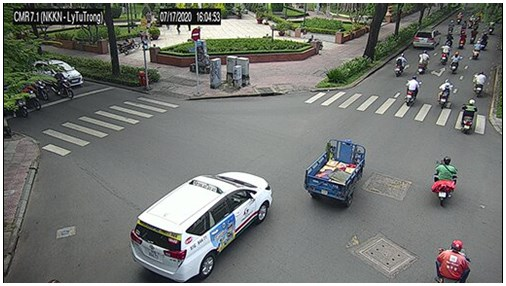xe_ba_gac: (304, 138, 366, 210)
xe_hoi: (129, 171, 273, 283), (33, 59, 84, 88), (412, 28, 441, 49)
xe_may: (436, 239, 470, 283), (432, 156, 459, 205), (50, 70, 75, 99), (459, 98, 477, 135), (404, 76, 420, 108), (115, 36, 139, 57), (437, 79, 453, 109), (32, 77, 50, 102), (25, 88, 44, 111), (472, 70, 487, 98), (417, 49, 431, 77), (10, 97, 27, 118), (393, 52, 407, 77), (451, 52, 462, 75), (441, 43, 450, 67), (472, 41, 481, 61), (480, 32, 489, 52), (445, 30, 455, 45), (469, 26, 477, 44), (446, 17, 455, 32), (466, 15, 476, 28), (459, 31, 466, 49), (488, 18, 495, 35), (457, 11, 462, 25)
